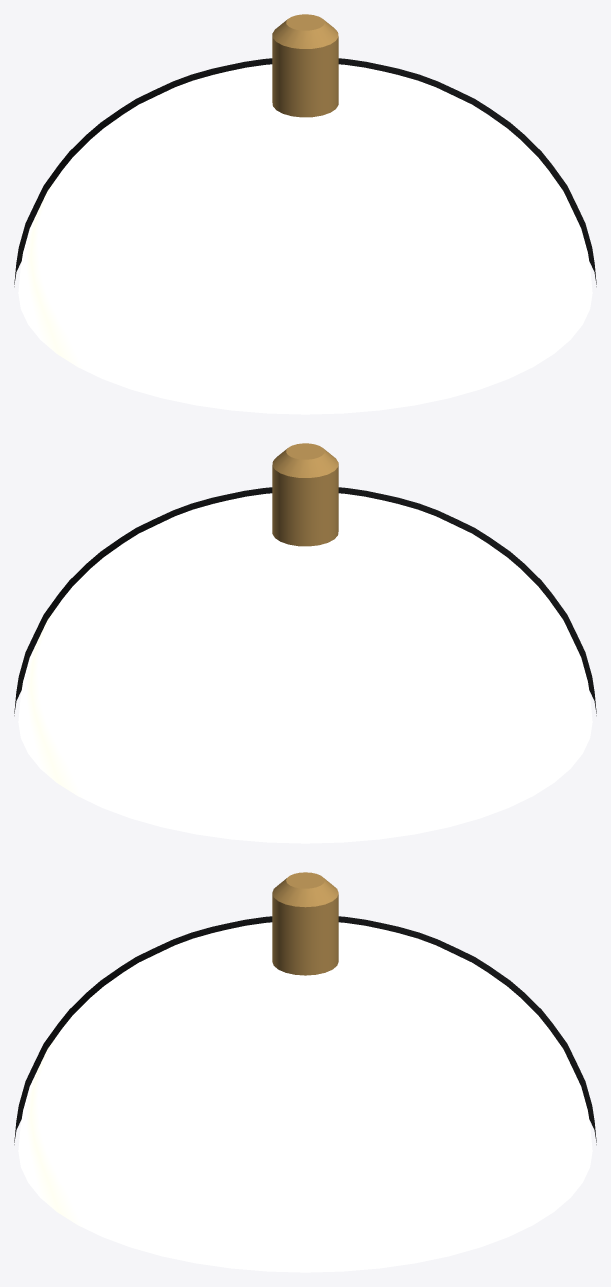
The model's file is dome_black.glb.
3 renders of one model, top to bottom at view 1: azimuth 30°, elevation 25°; view 2: azimuth 150°, elevation 25°; view 3: azimuth 270°, elevation 25°, orthographic.
Visible parts, largest first — view 1: dome_black; view 2: dome_black; view 3: dome_black.
Boxes of the visible parts, box(x1,y1,x2,y2) form: dome_black: box(14, 14, 596, 414); dome_black: box(14, 443, 596, 843); dome_black: box(14, 872, 596, 1272).
Bounding box in the file's own units: 0.42 × 0.2152 × 0.42.
